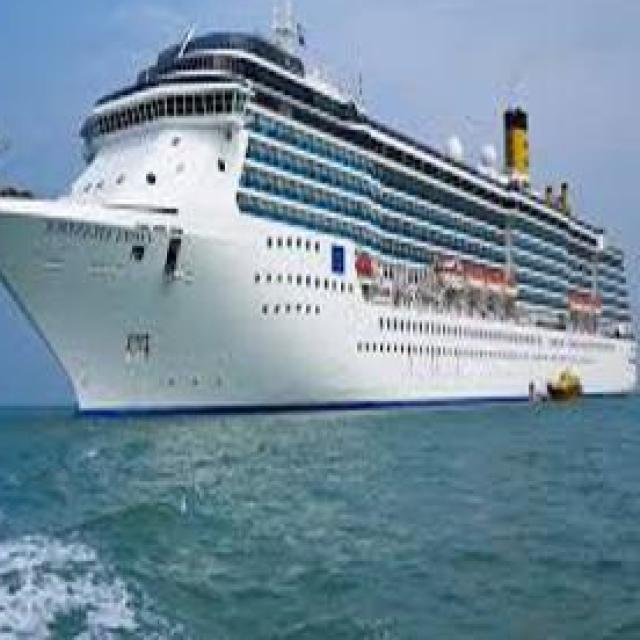houseboat: (528, 360, 590, 404)
passenger ship: (0, 5, 633, 412)
